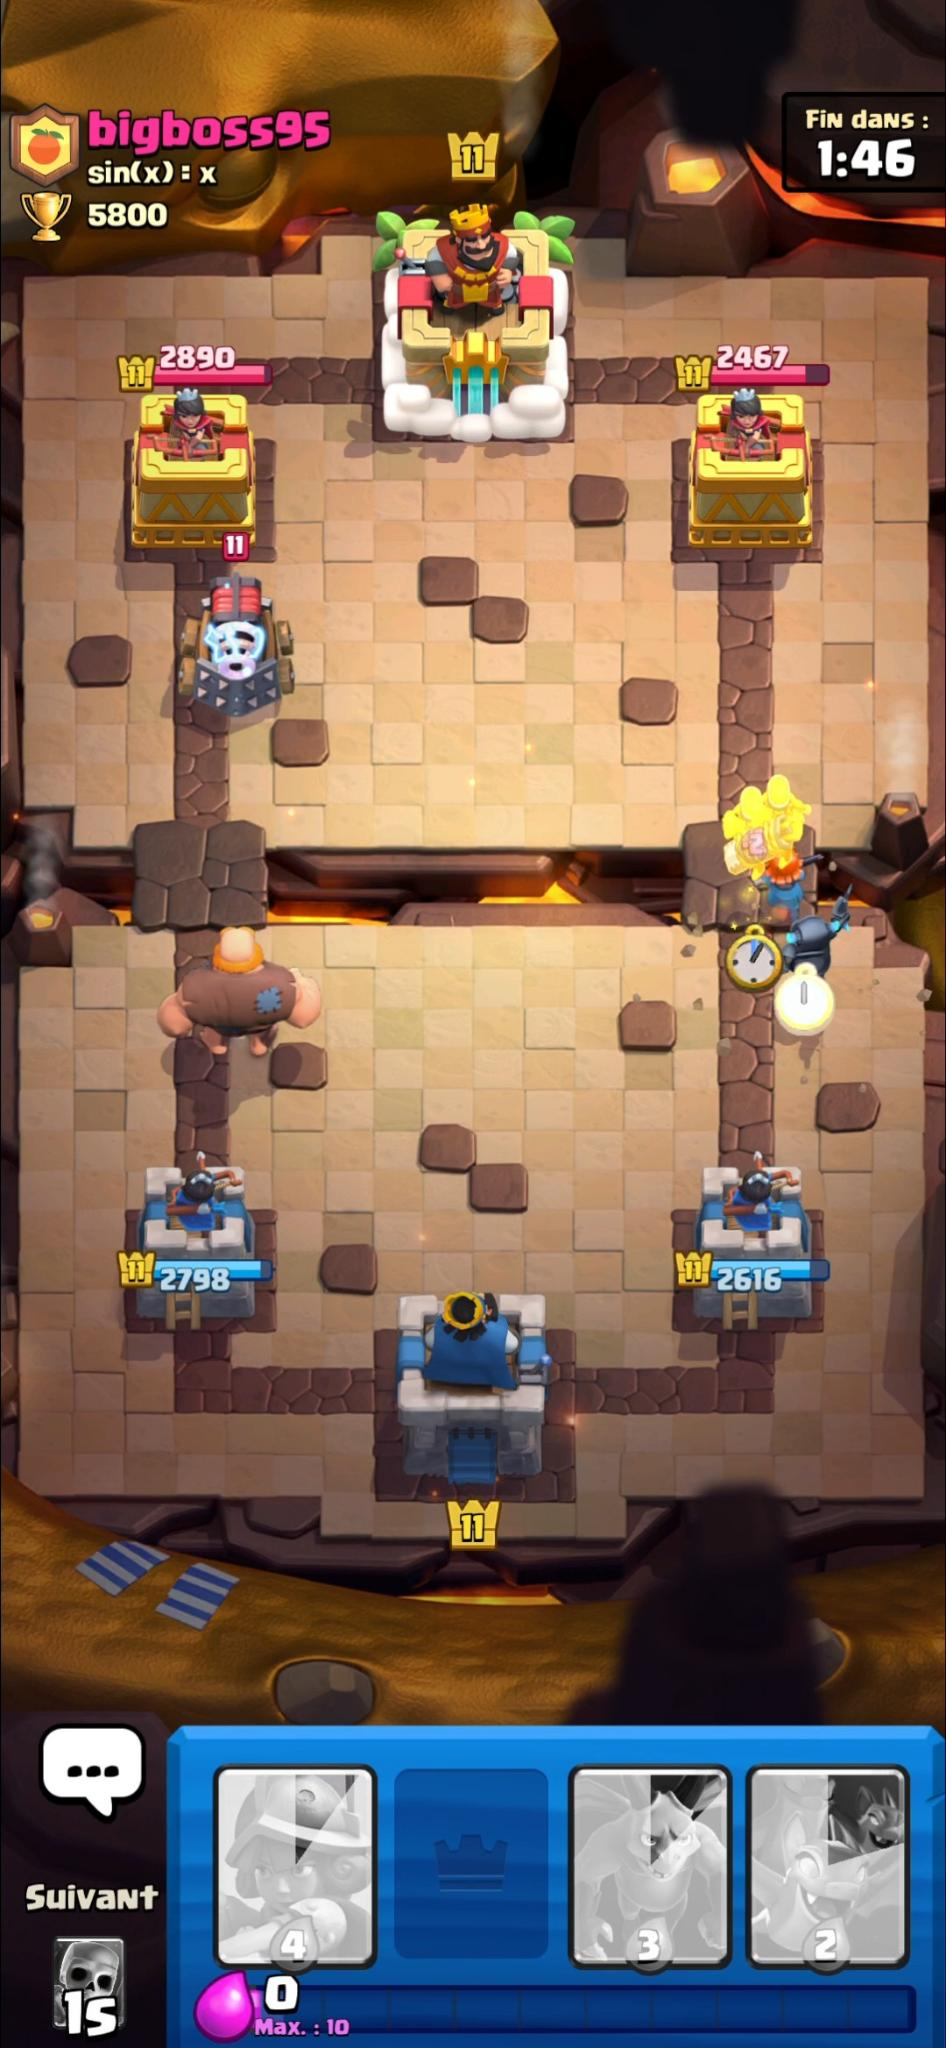geant: (158, 929, 321, 1059)
gobelin_lances: (763, 771, 821, 841), (723, 784, 779, 844)
mini_PEKKA: (779, 901, 860, 982)
valkyrie: (755, 849, 821, 912)
zappy: (178, 586, 310, 717)
